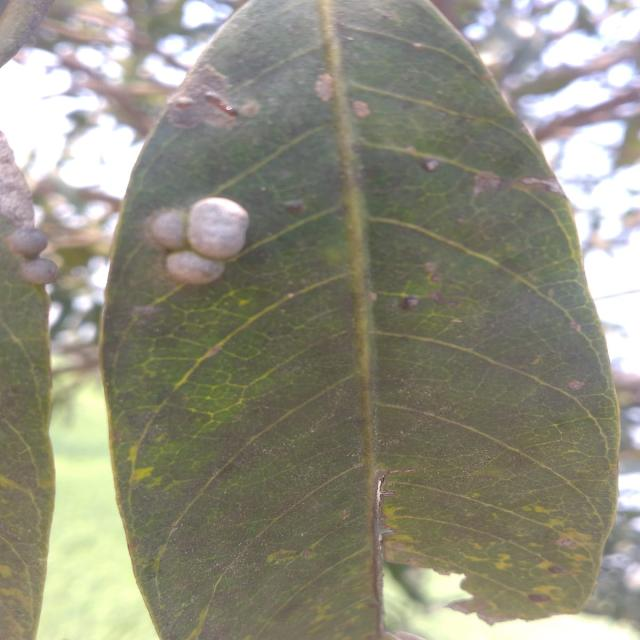gall midge: (123, 190, 287, 297)
